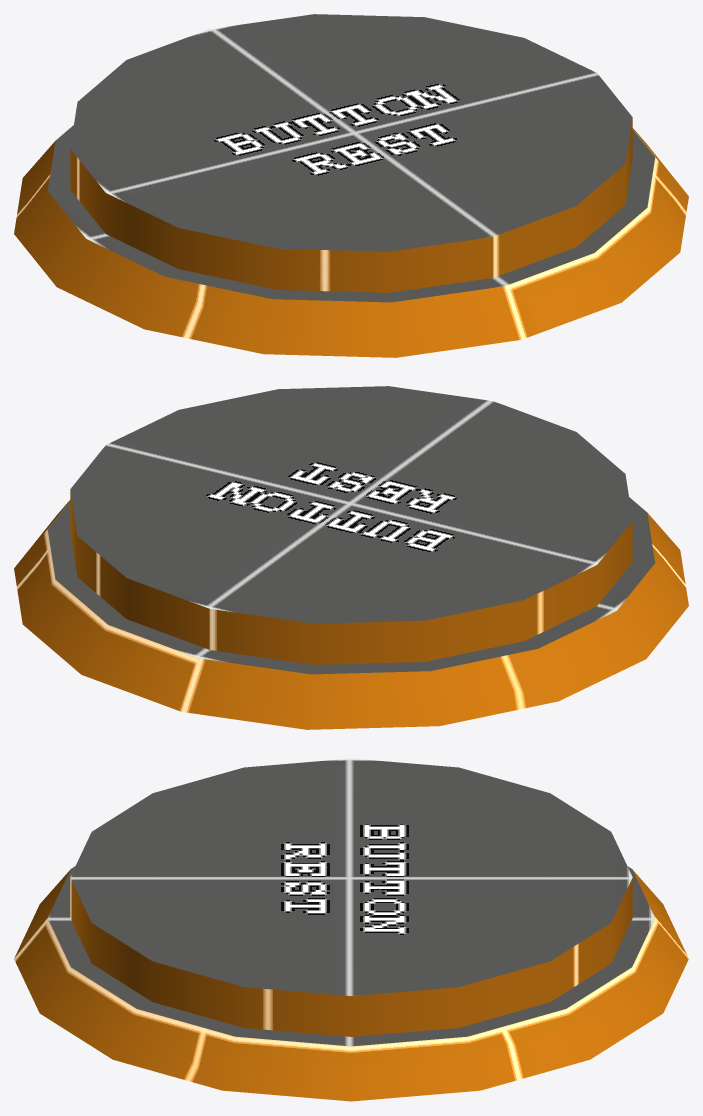
The model's file is dev_button.glb.
The picture shows the model from 3 angles, top to bottom: view 1: azimuth 30°, elevation 25°; view 2: azimuth 150°, elevation 25°; view 3: azimuth 270°, elevation 25°; orthographic projection.
Visible parts, largest first — view 1: dev_button_rest, dev_button_base, dev_button_pressed; view 2: dev_button_rest, dev_button_base, dev_button_pressed; view 3: dev_button_rest, dev_button_base, dev_button_pressed.
Part boxes in pixels (bbox=[...]): dev_button_rest: bbox=[70, 14, 632, 292]; dev_button_base: bbox=[14, 125, 688, 357]; dev_button_pressed: bbox=[70, 155, 632, 292]; dev_button_rest: bbox=[70, 386, 632, 664]; dev_button_base: bbox=[14, 497, 688, 729]; dev_button_pressed: bbox=[70, 524, 632, 664]; dev_button_rest: bbox=[70, 758, 632, 1036]; dev_button_base: bbox=[14, 866, 688, 1101]; dev_button_pressed: bbox=[70, 910, 632, 1036].
Size of the model in its own units: 1.5 by 0.2 by 1.5.
Materials: 1 (1 with a texture image).
